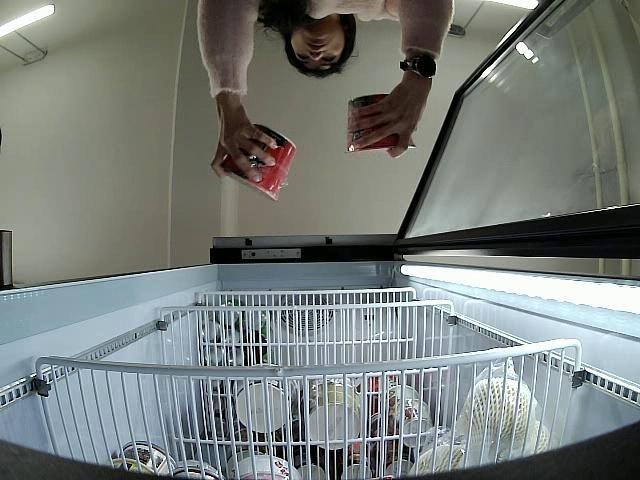01_ShinRamen_L: (221, 125, 295, 200), (344, 92, 416, 152)
